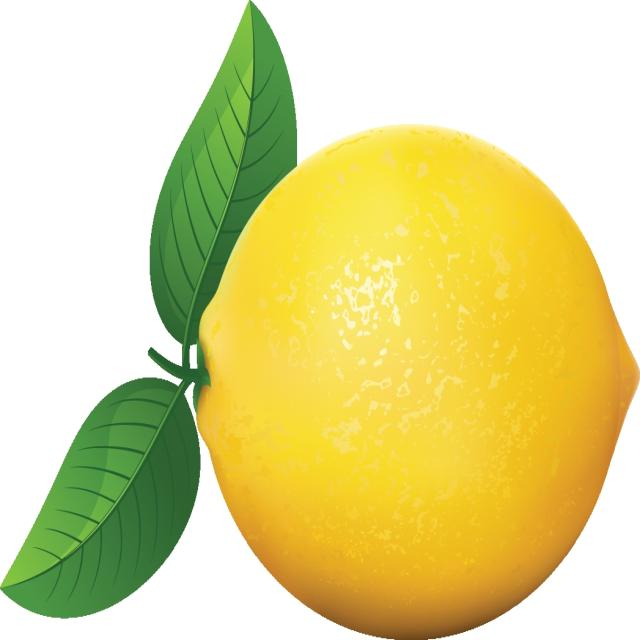Quả chanh: (193, 121, 639, 638)
